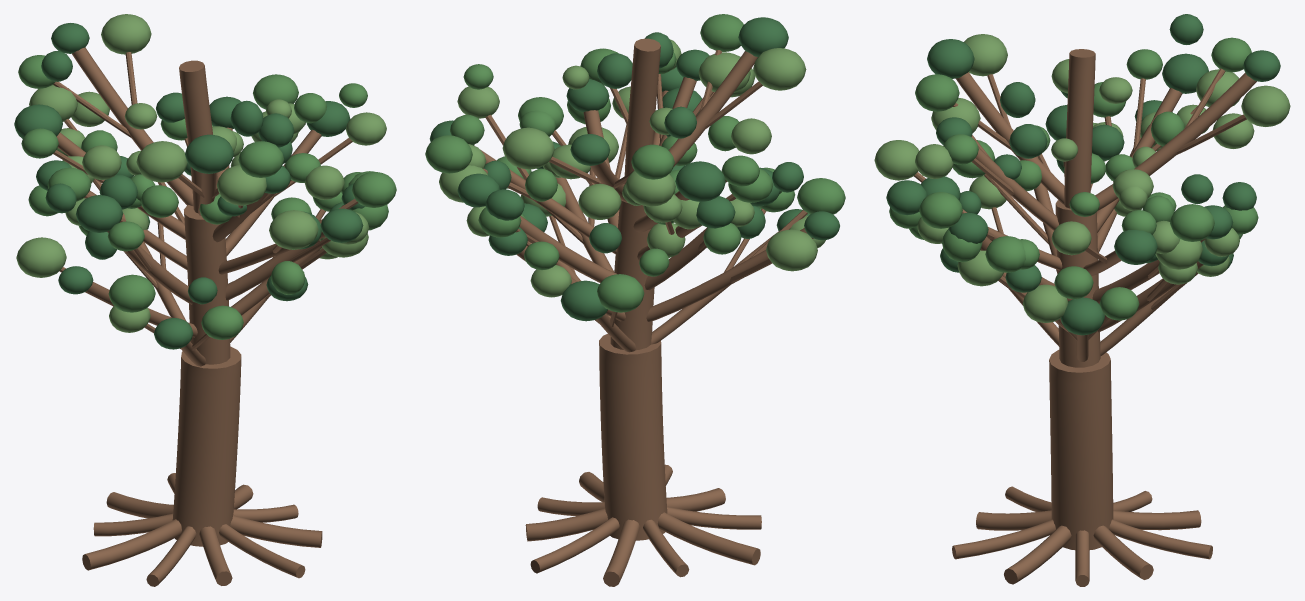
3 renders of one model, left to right at view 1: azimuth 30°, elevation 25°; view 2: azimuth 150°, elevation 25°; view 3: azimuth 270°, elevation 25°, orthographic. The views are drawn at different scales.
Parts seen in each view (by area): view 1: overlapping branch-tip foliage geometry (×30), dense irregular canopy foliage geometry (×20), trunk lower geometry, trunk middle geometry, trunk crown geometry, primary limb 12 geometry, buttress root 6 geometry, buttress root 2 geometry, buttress root 3 geometry, primary limb 3 geometry, buttress root 7 geometry, buttress root 8 geometry (+13 smaller); view 2: overlapping branch-tip foliage geometry (×30), dense irregular canopy foliage geometry (×17), trunk lower geometry, trunk middle geometry, trunk crown geometry, buttress root 6 geometry, primary limb 6 geometry, primary limb 8 geometry, buttress root 10 geometry, buttress root 9 geometry, primary limb 15 geometry, buttress root 5 geometry (+10 smaller); view 3: overlapping branch-tip foliage geometry (×33), dense irregular canopy foliage geometry (×20), trunk lower geometry, trunk crown geometry, primary limb 12 geometry, trunk middle geometry, primary limb 6 geometry, buttress root 9 geometry, buttress root 3 geometry, buttress root 8 geometry, buttress root 2 geometry, primary limb 5 geometry (+9 smaller).
Boxes of the visible parts, box(x1,y1,x2,y2) form: overlapping branch-tip foliage geometry (×30): box(14, 14, 396, 349); dense irregular canopy foliage geometry (×20): box(28, 51, 388, 304); trunk lower geometry: box(172, 346, 241, 546); trunk middle geometry: box(184, 205, 230, 364); trunk crown geometry: box(179, 60, 217, 213); primary limb 12 geometry: box(72, 47, 193, 206); buttress root 6 geometry: box(82, 519, 181, 570); buttress root 2 geometry: box(230, 515, 322, 547); buttress root 3 geometry: box(219, 524, 305, 578); primary limb 3 geometry: box(225, 205, 343, 300); buttress root 7 geometry: box(93, 513, 172, 536); buttress root 8 geometry: box(106, 492, 173, 518); overlapping branch-tip foliage geometry (×30): box(425, 14, 845, 321); dense irregular canopy foliage geometry (×17): box(450, 53, 803, 276); trunk lower geometry: box(599, 333, 667, 540); trunk middle geometry: box(610, 200, 654, 350); trunk crown geometry: box(624, 38, 660, 184); buttress root 6 geometry: box(657, 512, 760, 565); primary limb 6 geometry: box(668, 51, 757, 166); primary limb 8 geometry: box(646, 228, 813, 321); buttress root 10 geometry: box(525, 508, 607, 541); buttress root 9 geometry: box(530, 517, 619, 573); primary limb 15 geometry: box(519, 215, 616, 282); buttress root 5 geometry: box(667, 506, 761, 529); overlapping branch-tip foliage geometry (×33): box(874, 34, 1290, 335); dense irregular canopy foliage geometry (×20): box(915, 14, 1256, 262); trunk lower geometry: box(1049, 350, 1113, 549); trunk crown geometry: box(1064, 49, 1095, 208); primary limb 12 geometry: box(1095, 72, 1256, 210); trunk middle geometry: box(1055, 200, 1100, 367); primary limb 6 geometry: box(955, 72, 1064, 204); buttress root 9 geometry: box(1109, 519, 1212, 559); buttress root 3 geometry: box(952, 519, 1055, 559); buttress root 8 geometry: box(1113, 510, 1201, 530); buttress root 2 geometry: box(1004, 525, 1071, 584); primary limb 5 geometry: box(975, 147, 1058, 230).
Size of the model in its own units: 64.56 by 83.33 by 64.75.
